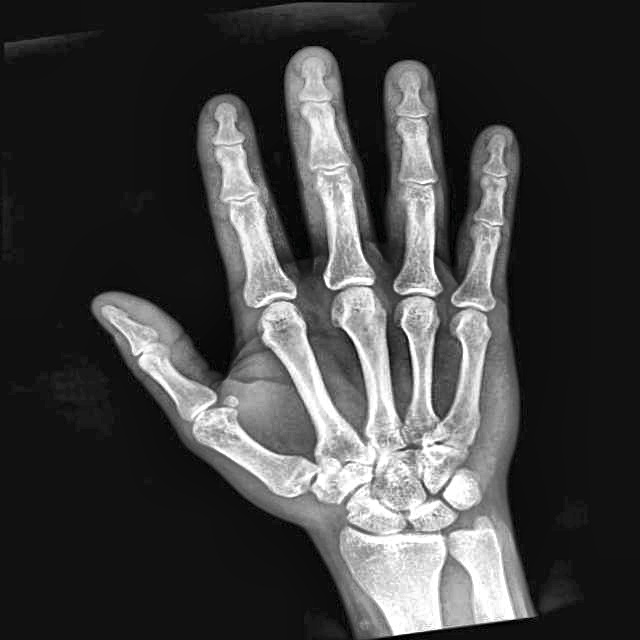Healthy: (151, 109, 572, 591)
